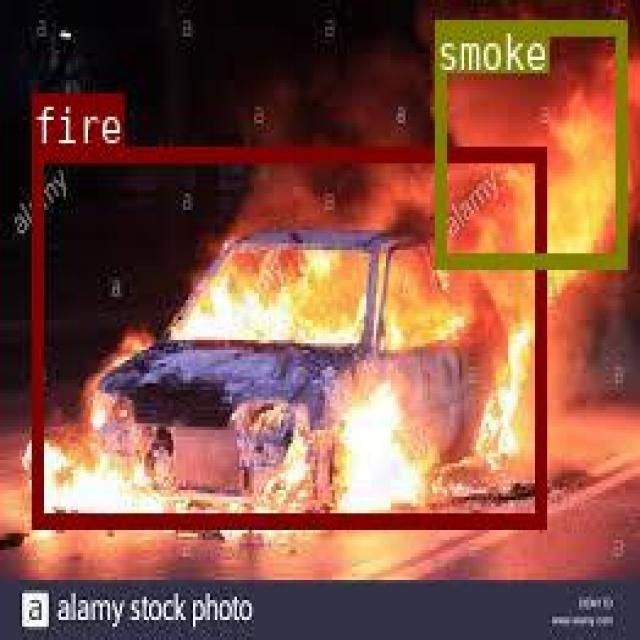fire: (30, 147, 544, 527)
smoke: (433, 19, 625, 265)
